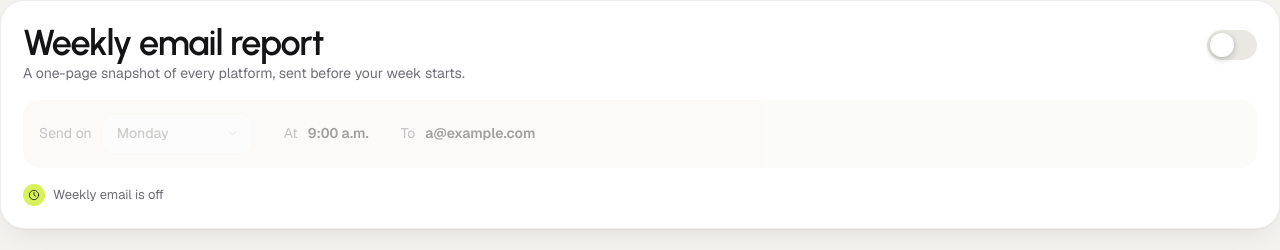
Test: ScheduleCard › goes back and says so when saving fails
This screenshot has width=1280, height=250.
Click the switch named "Send weekly email report" at point(1232, 45), box [1207, 23, 1257, 67]
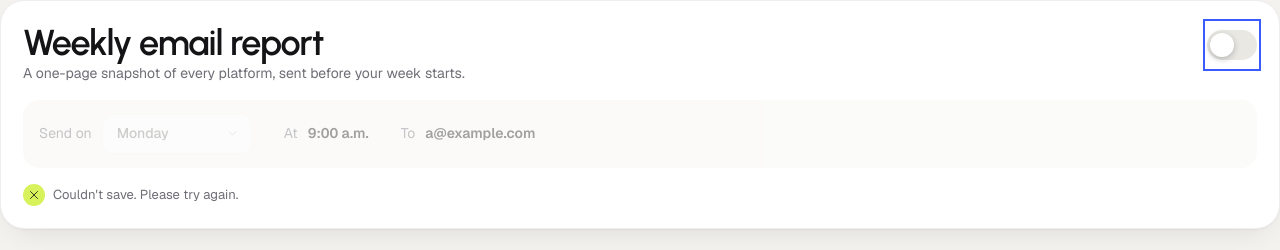
Expected: the text "Couldn't save. Please try again." is shown, [23, 184, 238, 206]
